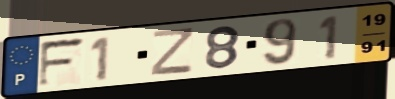1: (88, 35, 111, 83), (317, 14, 340, 61)
8: (203, 24, 242, 71)
9: (259, 16, 303, 68)
F: (36, 35, 89, 90)
Z: (149, 25, 197, 77)
